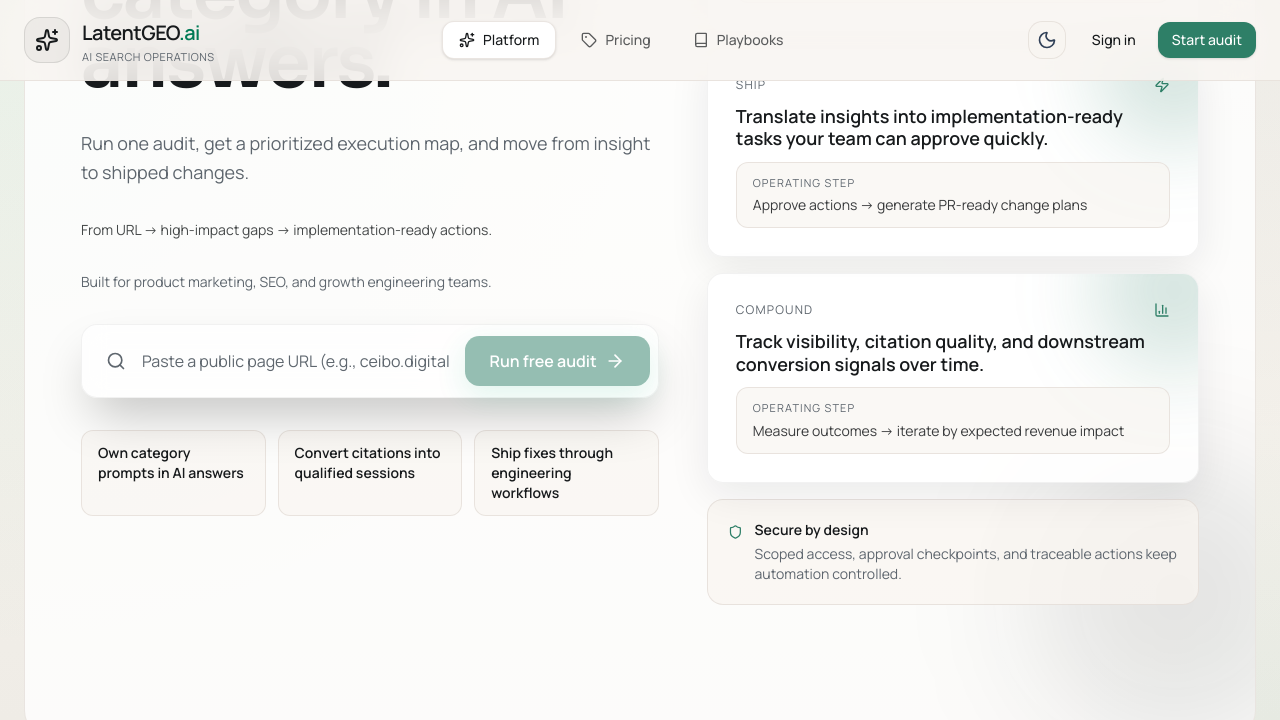
Test: HomePage › shows validation feedback for an invalid URL
(page scrolled)
In the field with placeholder "Paste a public page URL (e.g., ceibo.digital)": (295, 361) [126,333,465,389], type "not-a-url"
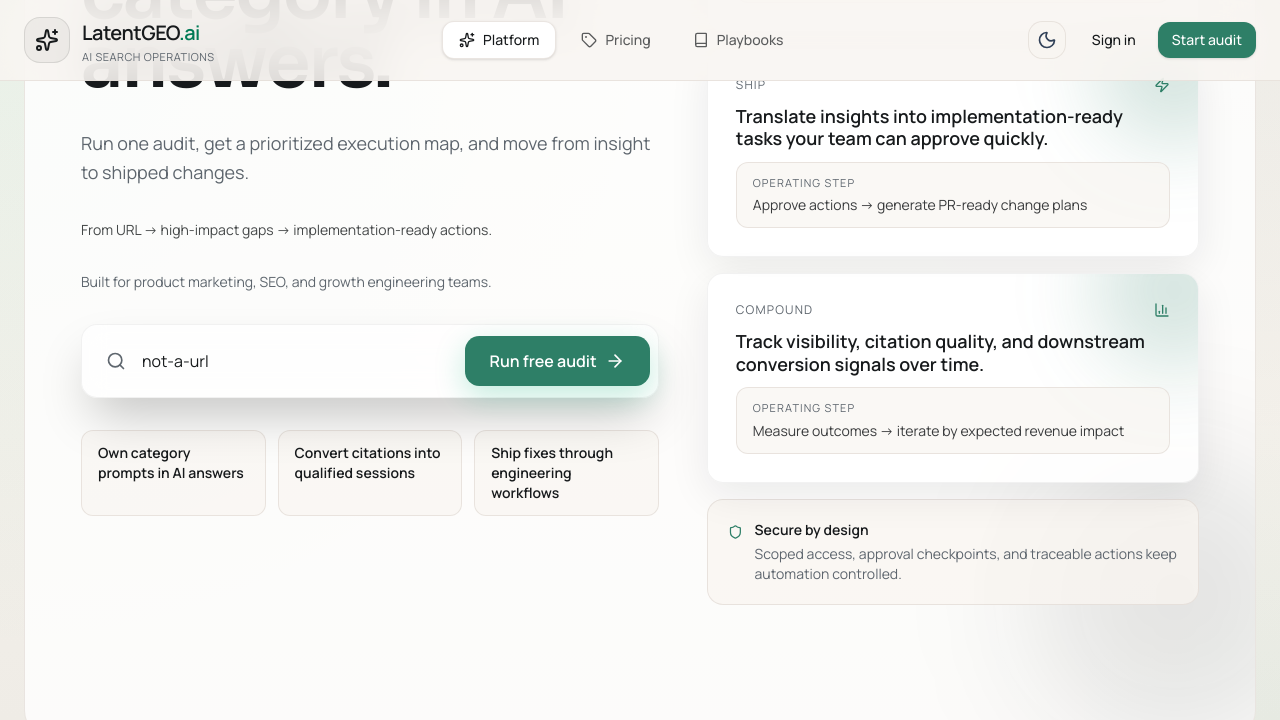
Click the button "Run free audit": (557, 361) [465,336,650,386]
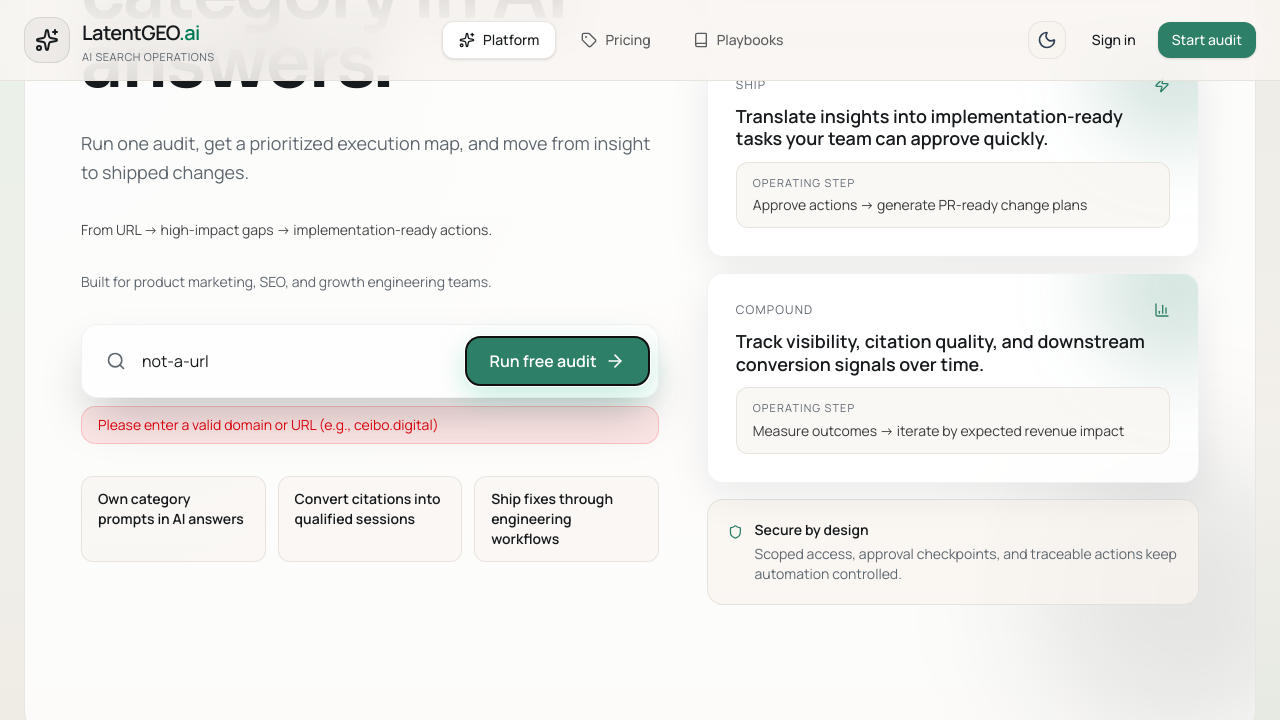
Now the text "Please enter a valid domain or URL (e.g., ceibo.digital)" is shown, box [81,406,659,444]
